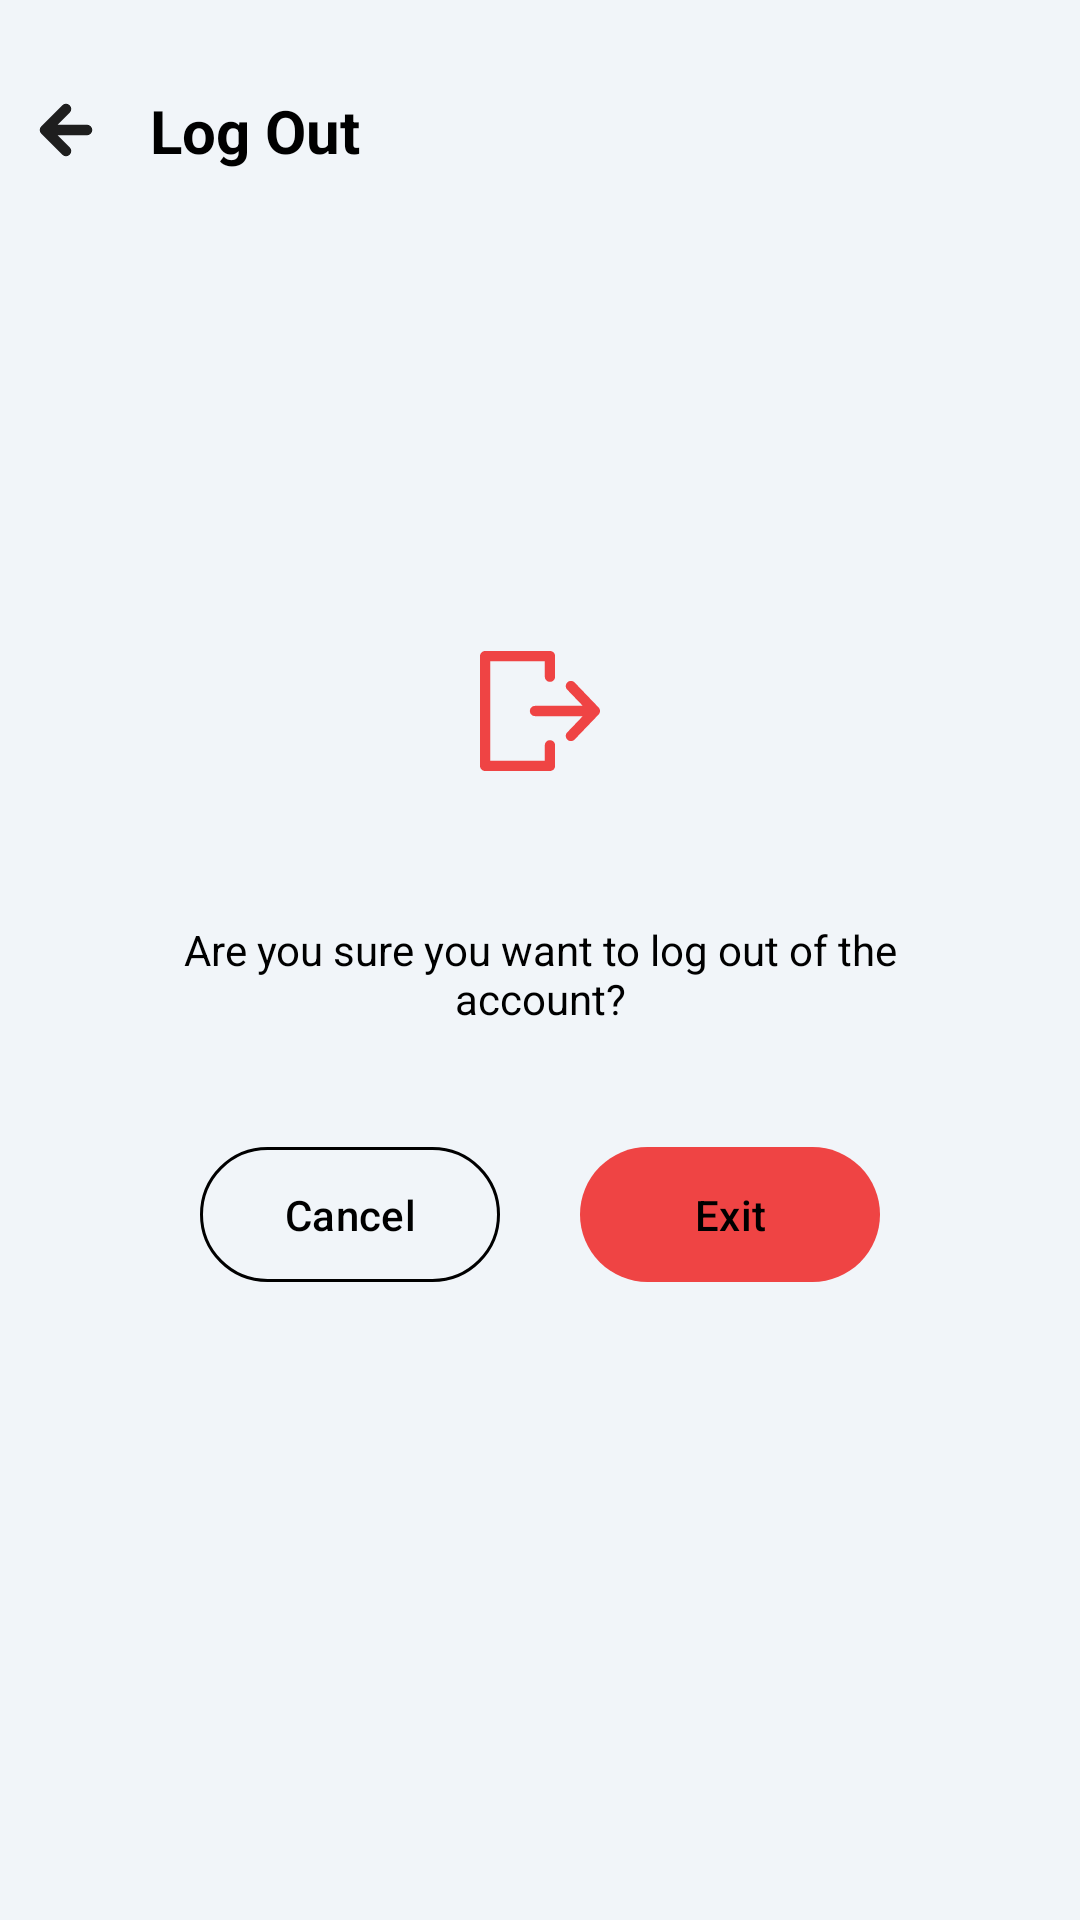

Named icons in this screenshot (1080x1920) and their centers, point (x, y):
arrow: point (66, 130)
exit: point (540, 711)
